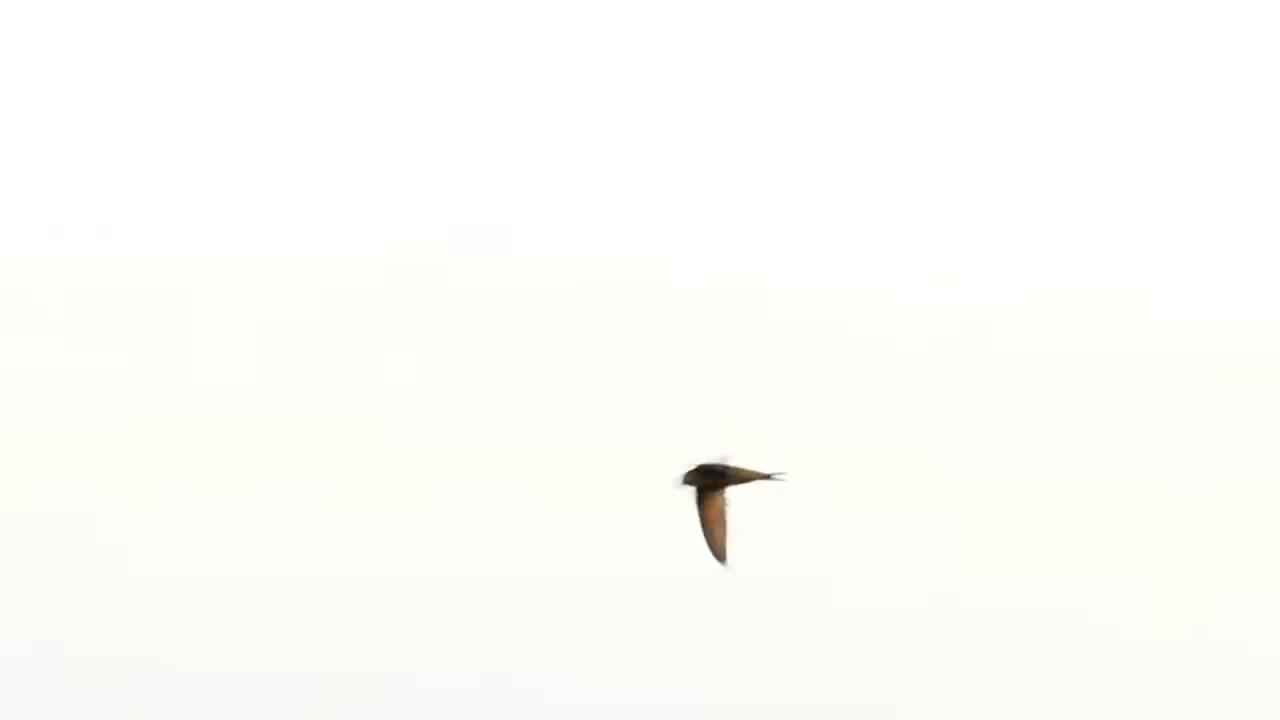Bird: (659, 442, 795, 574)
